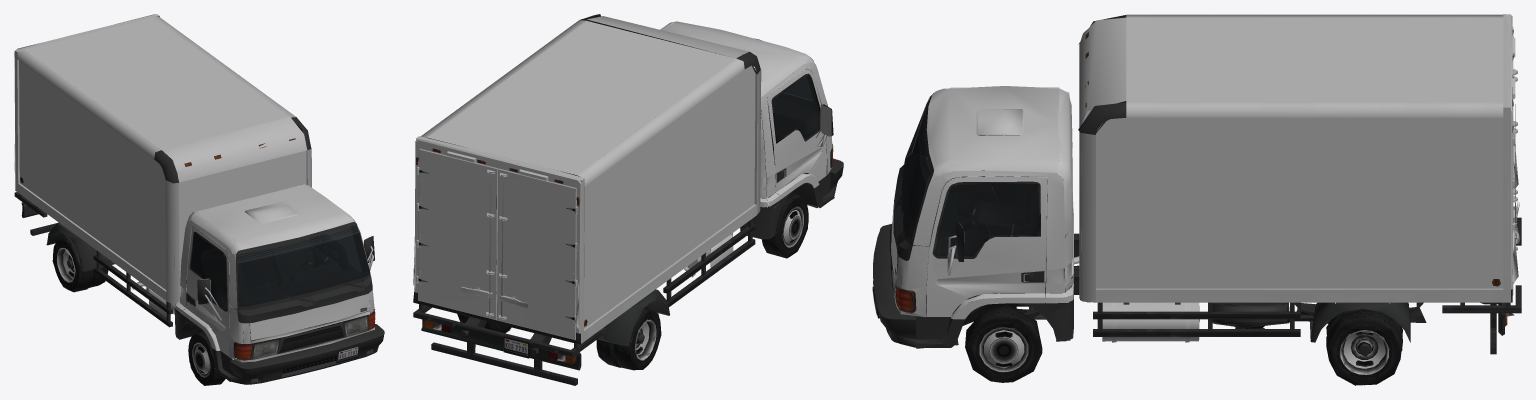
The model's file is lct_lod1.glb.
The picture shows the model from 3 angles, left to right: view 1: azimuth 30°, elevation 25°; view 2: azimuth 150°, elevation 25°; view 3: azimuth 270°, elevation 25°; orthographic projection. The views are drawn at different scales.
Visible parts, largest first — view 1: LCT300095_Body_lct3000_Bodymat_0, LCT300095_Bottom_UCB_BOTTOM_0, LCT300095_Interior_UCB_Interiors_2_0, LCT300095_Windshield_UCB_Lights_and_Glass_Transperent_0, LCT300095_Bumper_front_UCB_BOTTOM_0, LCT300095_Glass_Passenger_UCB_Lights_and_Glass_Transperent_0, wheel_RR, wheel_FR, LCT300095_Headlights_Glass_UCB_Lights_and_Glass_Transperent_, LCT300095_Headlights_UCB_Lights_and_Glass_0, LCT300095_Glass_Driver_UCB_Lights_and_Glass_Transperent_0; view 2: LCT300095_Body_lct3000_Bodymat_0, LCT300095_Bottom_UCB_BOTTOM_0, LCT300095_Reardoor_Left_lct3000_Bodymat_0, LCT300095_Reardoor_Right_lct3000_Bodymat_0, wheel_RR, LCT300095_Glass_Passenger_UCB_Lights_and_Glass_Transperent_0, LCT300095_Interior_UCB_Interiors_2_0, LCT300095_Bumper_rear_UCB_BOTTOM_0, wheel_FR, LCT300095_Reardoor_Right_Inner_UCB_BOTTOM_0, LCT300095_Reardoor_Left_Inner_UCB_BOTTOM_0; view 3: LCT300095_Body_lct3000_Bodymat_0, LCT300095_Bottom_UCB_BOTTOM_0, LCT300095_Interior_UCB_Interiors_2_0, LCT300095_Glass_Driver_UCB_Lights_and_Glass_Transperent_0, wheel_RL, wheel_FL, LCT300095_Bumper_front_UCB_BOTTOM_0, LCT300095_Windshield_UCB_Lights_and_Glass_Transperent_0, LCT300095_Suspension_UCB_BOTTOM_0.
Boxes of the visible parts, x1=… form: LCT300095_Body_lct3000_Bodymat_0: x1=14, y1=14, x2=374, y2=362; LCT300095_Bottom_UCB_BOTTOM_0: x1=14, y1=14, x2=374, y2=381; LCT300095_Interior_UCB_Interiors_2_0: x1=186, y1=212, x2=369, y2=345; LCT300095_Windshield_UCB_Lights_and_Glass_Transperent_0: x1=238, y1=225, x2=370, y2=306; LCT300095_Bumper_front_UCB_BOTTOM_0: x1=230, y1=324, x2=384, y2=384; LCT300095_Glass_Passenger_UCB_Lights_and_Glass_Transperent_0: x1=190, y1=233, x2=227, y2=309; wheel_RR: x1=52, y1=237, x2=108, y2=292; wheel_FR: x1=188, y1=330, x2=225, y2=385; LCT300095_Headlights_Glass_UCB_Lights_and_Glass_Transperent_: x1=234, y1=311, x2=375, y2=359; LCT300095_Headlights_UCB_Lights_and_Glass_0: x1=253, y1=316, x2=367, y2=358; LCT300095_Glass_Driver_UCB_Lights_and_Glass_Transperent_0: x1=327, y1=228, x2=361, y2=272; LCT300095_Body_lct3000_Bodymat_0: x1=414, y1=21, x2=832, y2=333; LCT300095_Bottom_UCB_BOTTOM_0: x1=413, y1=14, x2=834, y2=385; LCT300095_Reardoor_Left_lct3000_Bodymat_0: x1=418, y1=148, x2=497, y2=320; LCT300095_Reardoor_Right_lct3000_Bodymat_0: x1=497, y1=168, x2=576, y2=340; wheel_RR: x1=596, y1=307, x2=661, y2=370; LCT300095_Glass_Passenger_UCB_Lights_and_Glass_Transperent_0: x1=772, y1=76, x2=820, y2=140; LCT300095_Interior_UCB_Interiors_2_0: x1=760, y1=76, x2=821, y2=202; LCT300095_Bumper_rear_UCB_BOTTOM_0: x1=421, y1=319, x2=581, y2=370; wheel_FR: x1=761, y1=192, x2=808, y2=258; LCT300095_Reardoor_Right_Inner_UCB_BOTTOM_0: x1=498, y1=172, x2=576, y2=320; LCT300095_Reardoor_Left_Inner_UCB_BOTTOM_0: x1=418, y1=169, x2=496, y2=316; LCT300095_Body_lct3000_Bodymat_0: x1=891, y1=15, x2=1515, y2=319; LCT300095_Bottom_UCB_BOTTOM_0: x1=889, y1=14, x2=1521, y2=354; LCT300095_Interior_UCB_Interiors_2_0: x1=902, y1=98, x2=1066, y2=313; LCT300095_Glass_Driver_UCB_Lights_and_Glass_Transperent_0: x1=935, y1=184, x2=1038, y2=256; wheel_RL: x1=1326, y1=308, x2=1402, y2=385; wheel_FL: x1=965, y1=305, x2=1042, y2=382; LCT300095_Bumper_front_UCB_BOTTOM_0: x1=872, y1=224, x2=916, y2=347; LCT300095_Windshield_UCB_Lights_and_Glass_Transperent_0: x1=901, y1=97, x2=929, y2=239; LCT300095_Suspension_UCB_BOTTOM_0: x1=1016, y1=302, x2=1426, y2=323.
Size of the model in its own units: 2.93 by 3.24 by 6.8.
8 materials, 7 textured.
